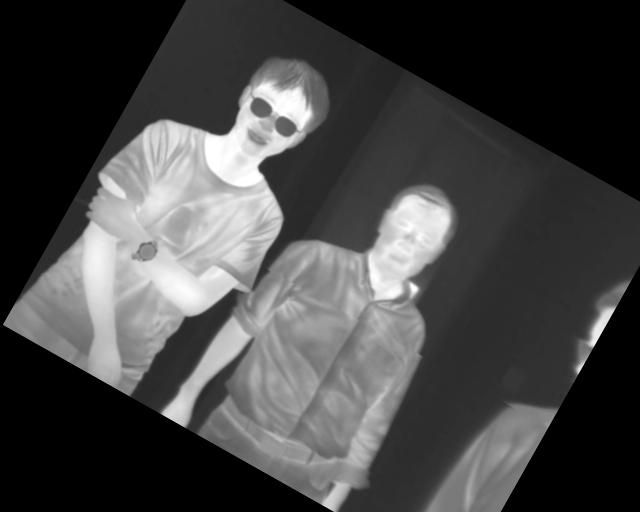face: (215, 40, 344, 180), (356, 169, 471, 296)
